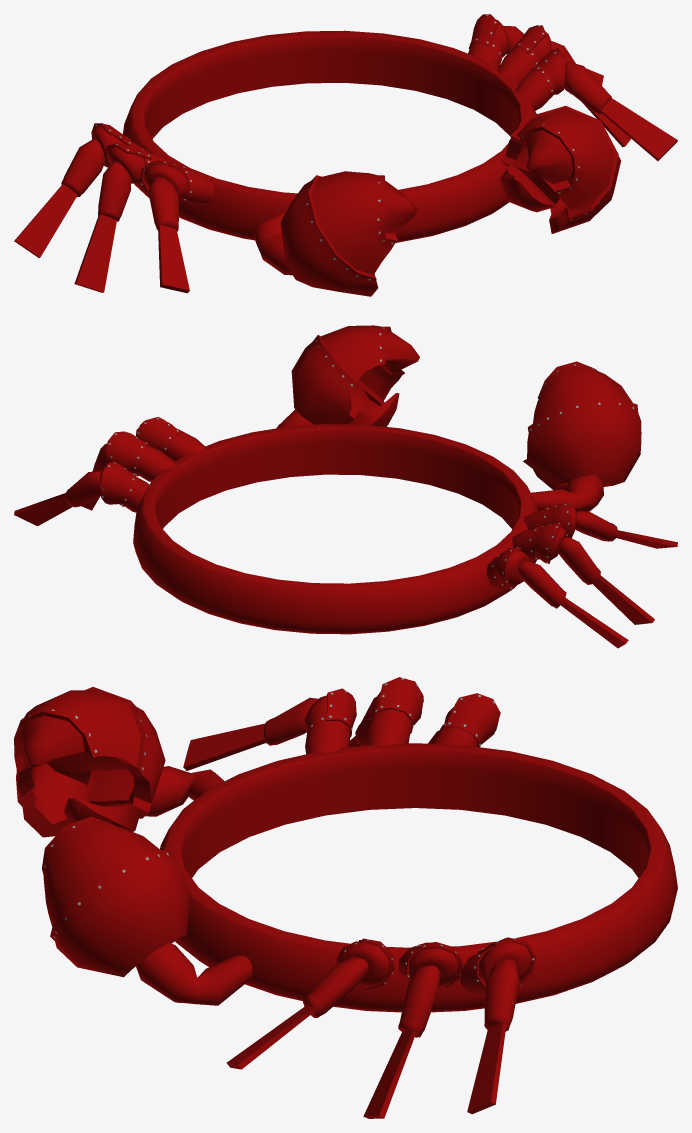
The model's file is Obj_crab.FBX.
3 views of the same model, one above another, from view 1: azimuth 30°, elevation 25°; view 2: azimuth 150°, elevation 25°; view 3: azimuth 270°, elevation 25° (orthographic). The views are drawn at different scales.
Parts seen in each view (by area): view 1: Obj_crab_circle, Obj_crab_tongs_right, Obj_crab_leg_right, Obj_crab_tongs_left, Obj_crab_leg_left; view 2: Obj_crab_circle, Obj_crab_tongs_right, Obj_crab_tongs_left, Obj_crab_leg_right, Obj_crab_leg_left; view 3: Obj_crab_circle, Obj_crab_tongs_left, Obj_crab_tongs_right, Obj_crab_leg_left, Obj_crab_leg_right.
Boxes of the visible parts, x1,y1,x2,y2 form: Obj_crab_circle: (123, 30, 536, 242); Obj_crab_tongs_right: (253, 171, 417, 296); Obj_crab_leg_right: (14, 123, 214, 293); Obj_crab_tongs_left: (500, 105, 620, 233); Obj_crab_leg_left: (468, 14, 677, 160); Obj_crab_circle: (133, 424, 537, 634); Obj_crab_tongs_right: (523, 361, 641, 511); Obj_crab_tongs_left: (276, 325, 419, 428); Obj_crab_leg_right: (486, 503, 677, 648); Obj_crab_leg_left: (14, 417, 205, 526); Obj_crab_circle: (160, 743, 677, 1012); Obj_crab_tongs_left: (41, 816, 252, 1005); Obj_crab_tongs_right: (14, 687, 224, 837); Obj_crab_leg_left: (226, 937, 536, 1118); Obj_crab_leg_right: (183, 677, 500, 770).
Bounding box in the file's own units: 123 × 28.98 × 93.42.
